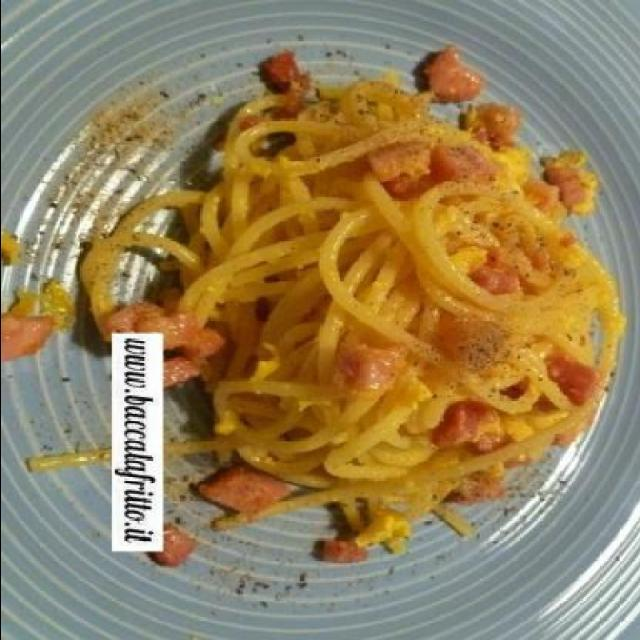Pasta with carbonara sauce: (198, 41, 614, 602)
